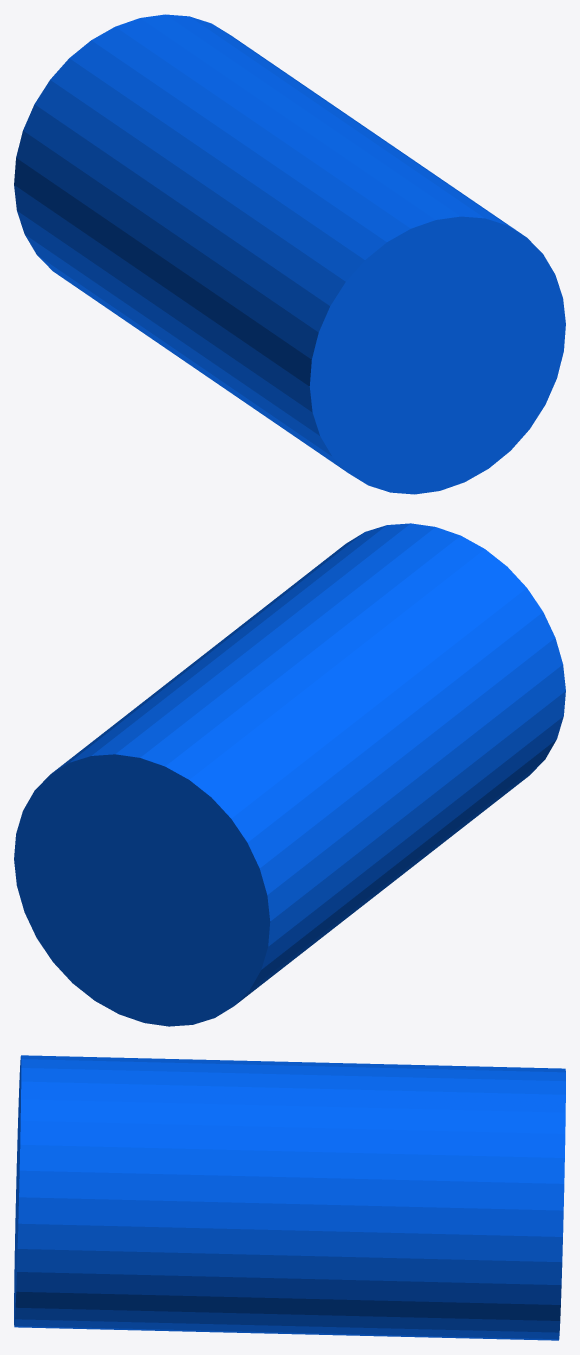
File: Bullet.obj
3 renders of one model, top to bottom at view 1: azimuth 30°, elevation 25°; view 2: azimuth 150°, elevation 25°; view 3: azimuth 270°, elevation 25°, orthographic. The views are drawn at different scales.
Visible parts, largest first — view 1: 円柱; view 2: 円柱; view 3: 円柱.
Boxes of the visible parts, x1,y1,x2,y2 form: 円柱: (14, 14, 565, 494); 円柱: (14, 523, 565, 1026); 円柱: (14, 1055, 565, 1340).
Bounding box in the file's own units: 1 × 1.05 × 2.03.
Materials: 1 (1 with a texture image).
